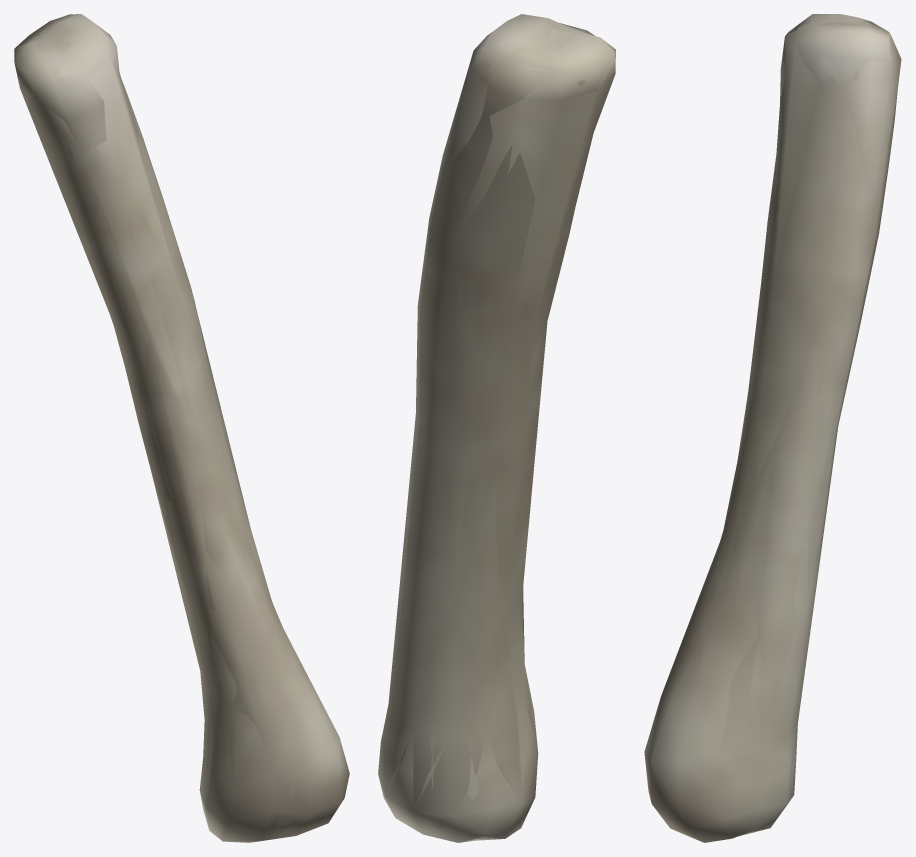
File: L metacarpi quintum.fbx
3 views of the same model, side by side, from view 1: azimuth 30°, elevation 25°; view 2: azimuth 150°, elevation 25°; view 3: azimuth 270°, elevation 25° (orthographic). The views are drawn at different scales.
Parts seen in each view (by area): view 1: L metacarpi quintum, L metacarpi quintum low, L metacarpi quintum high; view 2: L metacarpi quintum low, L metacarpi quintum, L metacarpi quintum high; view 3: L metacarpi quintum, L metacarpi quintum low, L metacarpi quintum high.
Boxes of the visible parts, left/top/right/bottom form: L metacarpi quintum: left=14, top=14, right=349, bottom=842; L metacarpi quintum low: left=15, top=21, right=349, bottom=842; L metacarpi quintum high: left=26, top=18, right=295, bottom=829; L metacarpi quintum low: left=380, top=26, right=615, bottom=842; L metacarpi quintum: left=378, top=14, right=615, bottom=842; L metacarpi quintum high: left=388, top=20, right=586, bottom=839; L metacarpi quintum: left=644, top=14, right=901, bottom=842; L metacarpi quintum low: left=646, top=20, right=901, bottom=841; L metacarpi quintum high: left=688, top=19, right=893, bottom=834.
Bounding box in the file's own units: 0.5826 × 1.75 × 0.5429.
1 material, 1 textured.
